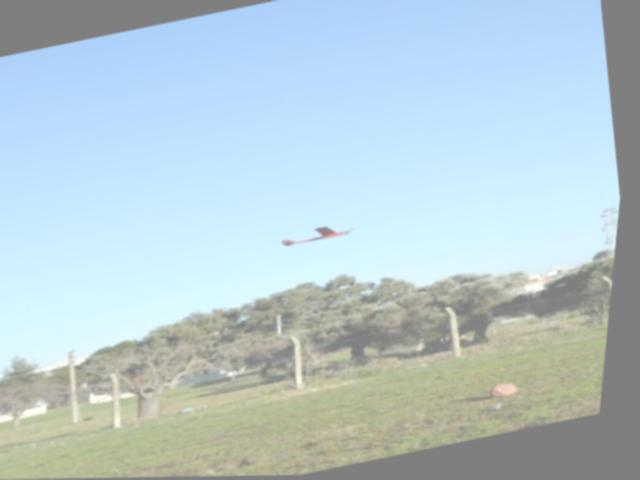iha: (282, 214, 367, 257)
